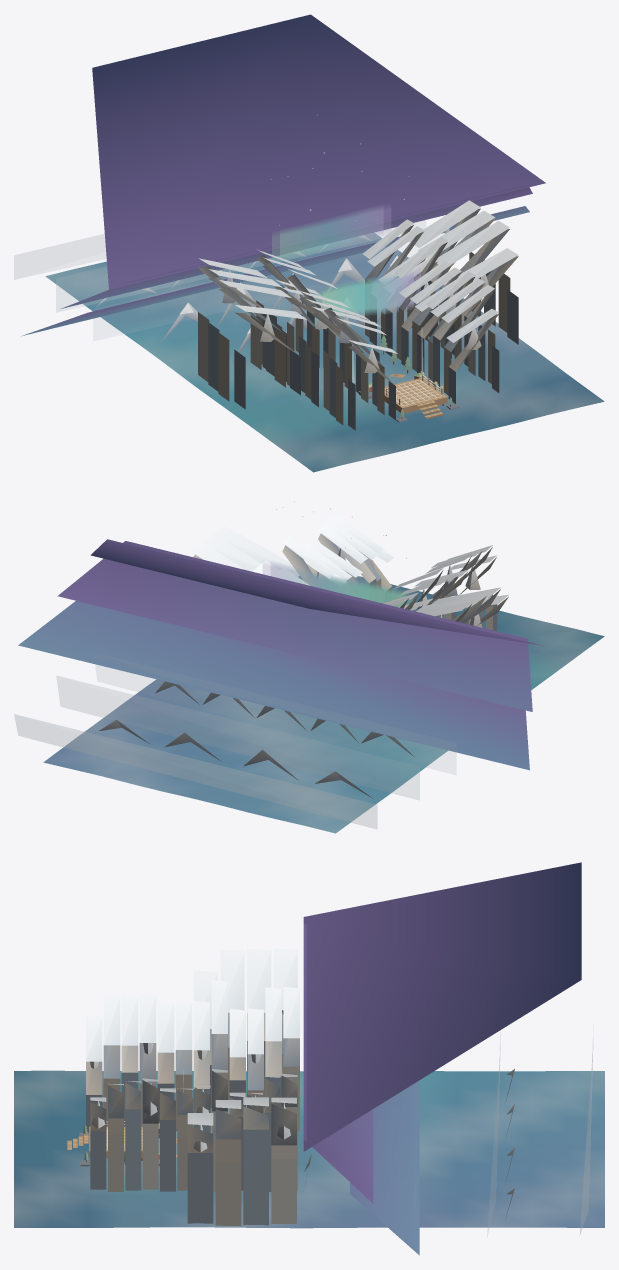
The model's file is env_fjord.glb.
The picture shows the model from 3 angles, top to bottom: view 1: azimuth 30°, elevation 25°; view 2: azimuth 150°, elevation 25°; view 3: azimuth 270°, elevation 25°; orthographic projection. The views are drawn at different scales.
Parts seen in each view (by area): view 1: FJ_sky, FJ_water, FJ_cliffs, FJ_fog, FJ_aurora, FJ_mountains, FJ_platform; view 2: FJ_sky, FJ_water, FJ_fog, FJ_cliffs, FJ_aurora, FJ_mountains; view 3: FJ_sky, FJ_water, FJ_cliffs, FJ_fog.
Boxes of the visible parts, x1,y1,x2,y2 form: FJ_sky: (21, 14, 545, 336); FJ_water: (45, 233, 604, 472); FJ_cliffs: (198, 200, 518, 430); FJ_fog: (14, 220, 460, 340); FJ_aurora: (272, 206, 420, 326); FJ_mountains: (96, 235, 416, 363); FJ_platform: (384, 378, 447, 413); FJ_sky: (18, 539, 543, 770); FJ_water: (43, 576, 604, 833); FJ_fog: (14, 653, 455, 829); FJ_cliffs: (191, 514, 508, 631); FJ_aurora: (263, 562, 412, 610); FJ_mountains: (99, 681, 413, 798); FJ_sky: (303, 862, 581, 1255); FJ_water: (14, 1070, 604, 1228); FJ_cliffs: (86, 948, 299, 1225); FJ_fog: (414, 1031, 593, 1236).
Bounding box in the file's own units: 56 × 22.13 × 51.
